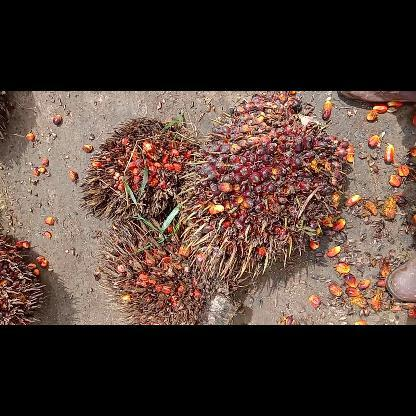TBS masak: (174, 94, 354, 280)
Terlalu masak: (92, 218, 246, 324), (79, 117, 197, 223)
